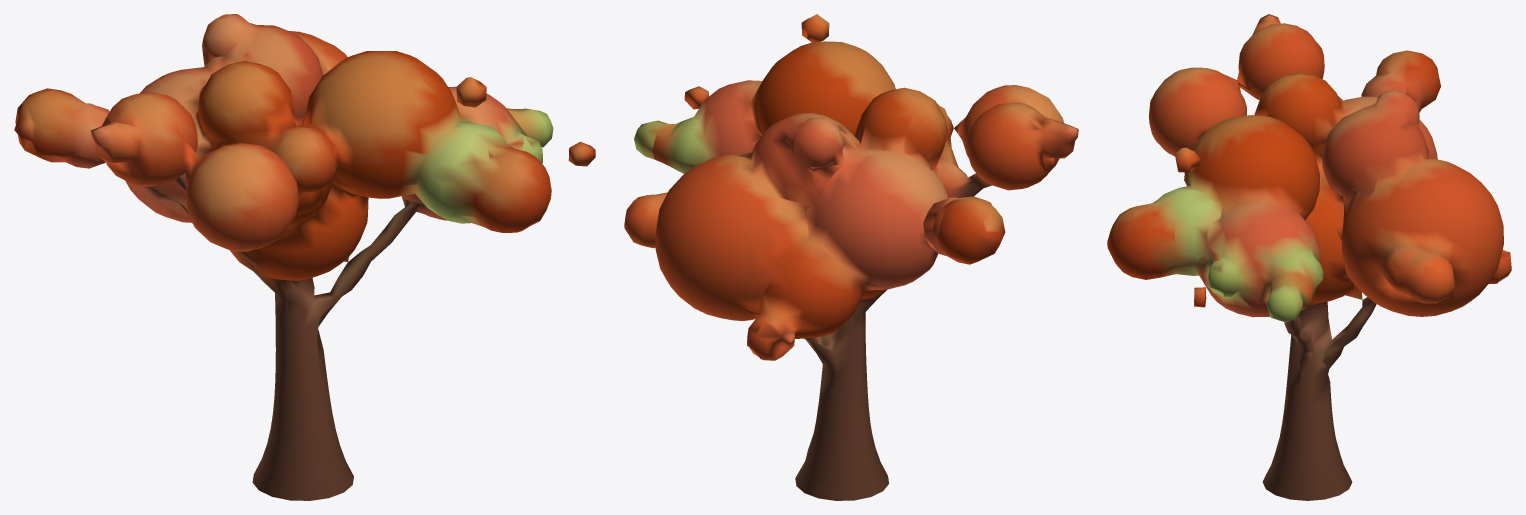
Rendered from canopy-tree-211-lod1.obj.
The picture shows the model from 3 angles, left to right: view 1: azimuth 30°, elevation 25°; view 2: azimuth 150°, elevation 25°; view 3: azimuth 270°, elevation 25°; orthographic projection. The views are drawn at different scales.
Parts seen in each view (by area): view 1: simplified; view 2: simplified; view 3: simplified.
Boxes of the visible parts, x1=… form: simplified: x1=14, y1=14, x2=595, y2=500; simplified: x1=624, y1=14, x2=1078, y2=500; simplified: x1=1107, y1=14, x2=1511, y2=500.
Size of the model in its own units: 369 by 329 by 316.
